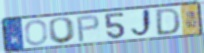5: (103, 12, 127, 41)
D: (155, 7, 182, 37)
J: (130, 7, 155, 39)
O: (48, 16, 78, 45), (24, 19, 50, 46)
P: (76, 14, 102, 43)
